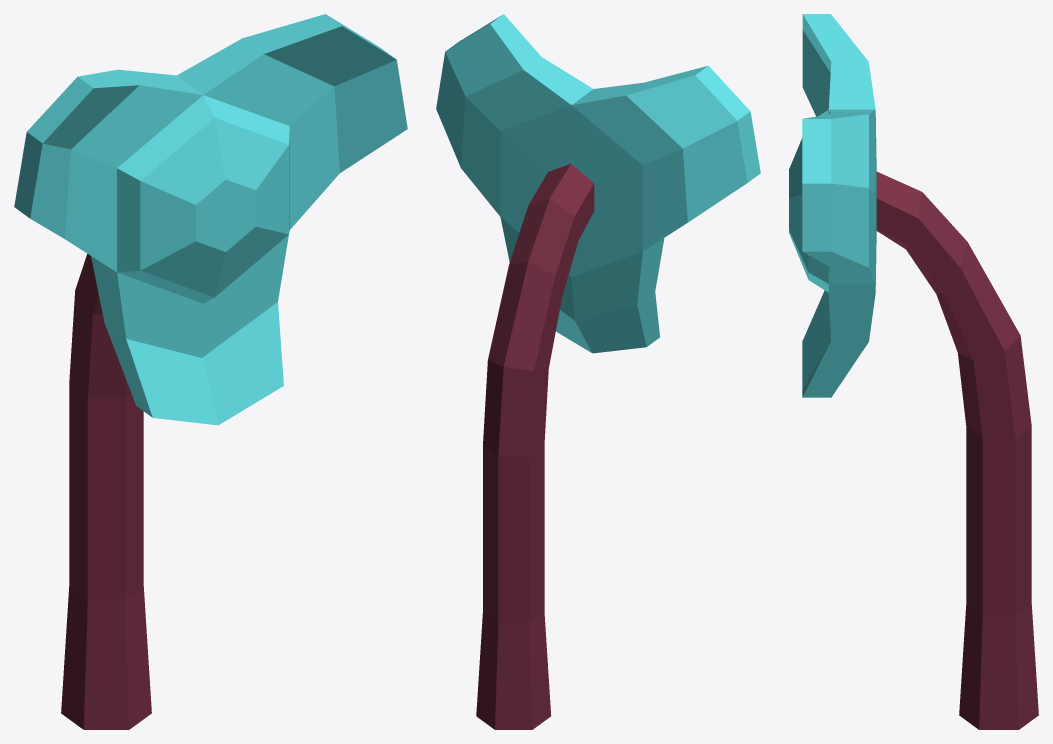
Rendered from Mo_FlowerForest03.fbx.
The picture shows the model from 3 angles, left to right: view 1: azimuth 30°, elevation 25°; view 2: azimuth 150°, elevation 25°; view 3: azimuth 270°, elevation 25°; orthographic projection. The views are drawn at different scales.
Visible parts, largest first — view 1: Cylinder; view 2: Cylinder; view 3: Cylinder.
Part boxes in pixels (x1,y1,x2,y2): Cylinder: (14,14,407,729); Cylinder: (436,14,760,729); Cylinder: (789,14,1038,729).
Bounding box in the file's own units: 90.24 × 169 × 58.87.
